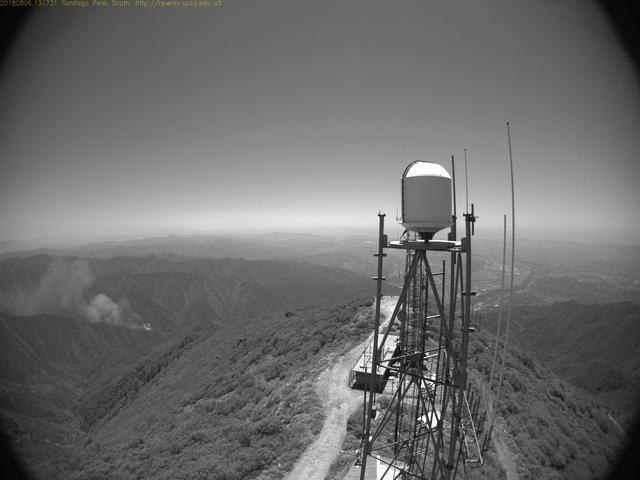smoke: (4, 254, 152, 331)
